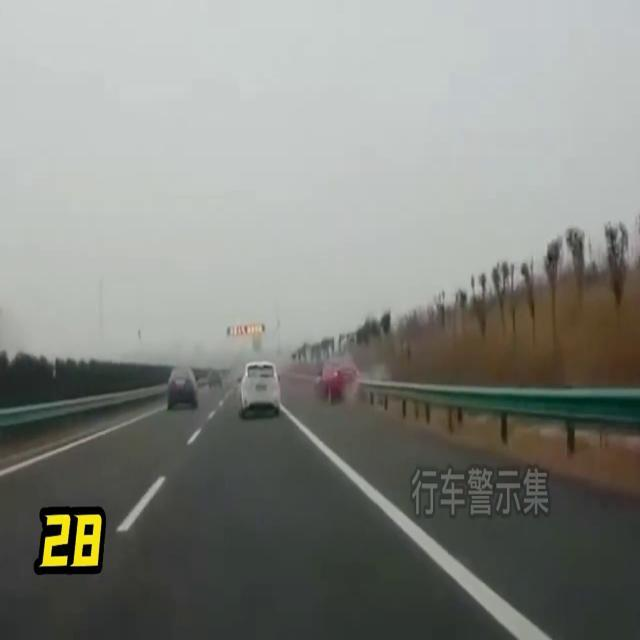normal: (152, 347, 206, 423), (240, 352, 284, 437)
single accident: (312, 336, 381, 426)
